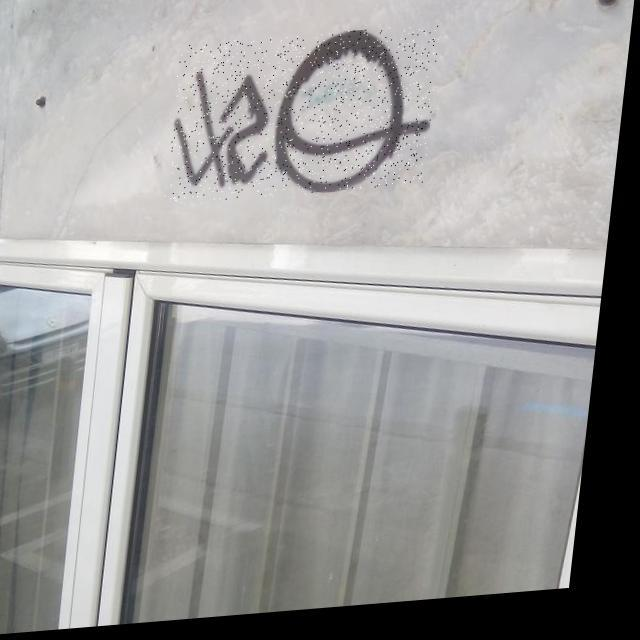-: (168, 31, 443, 208)
